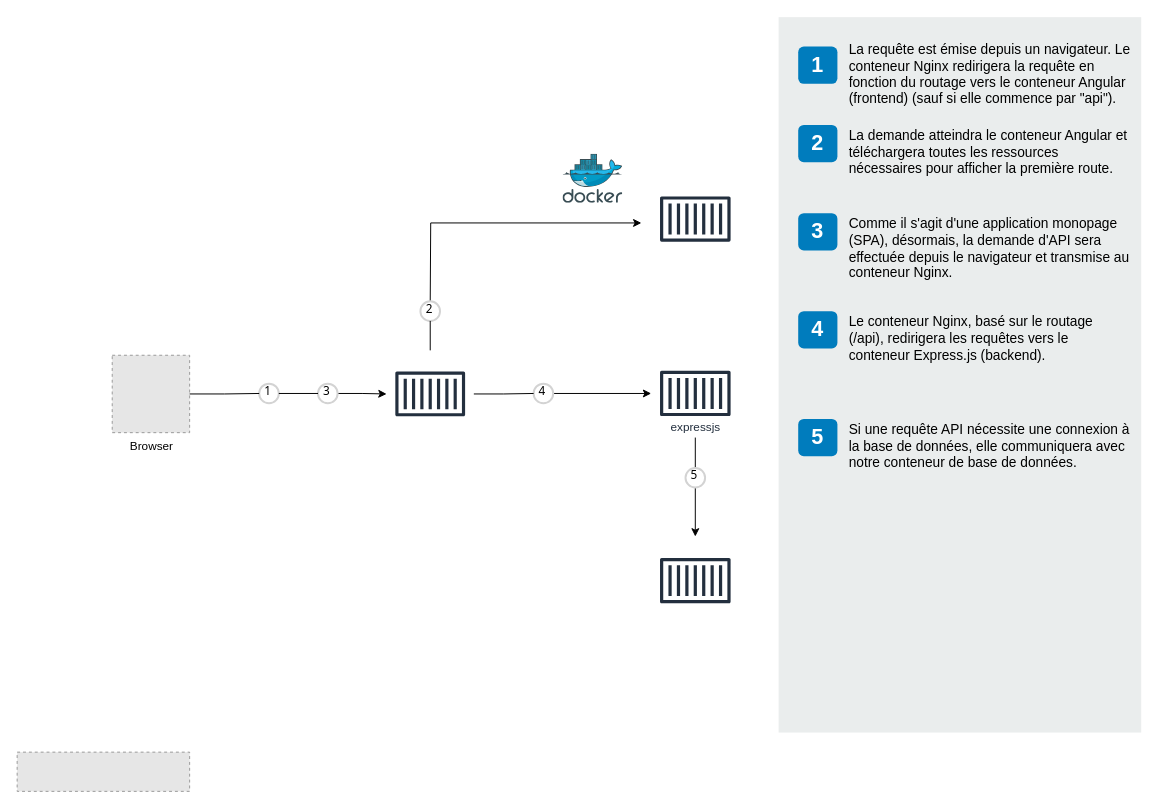
The diagram is 1158 pixels wide and 809 high, and some of its shapes have lost their labels. Grey dashed boxes stand in for pictures. The centre of each missing label's shape, as x and y in pixels:
Angular: the point at 694,218
MongoDB: the point at 694,580
NGINX: the point at 430,393
